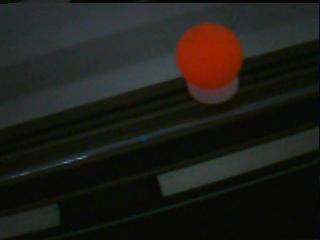oball: (176, 22, 241, 91)
